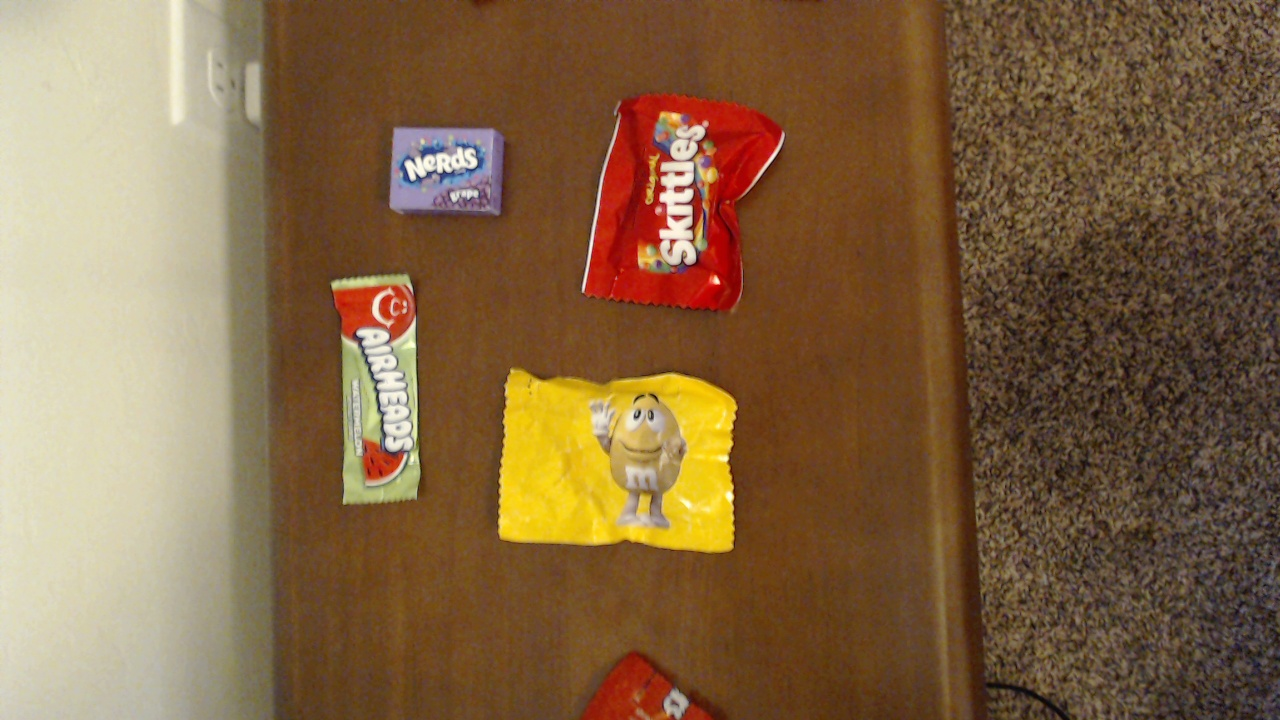MMs_regular: (499, 356, 735, 558)
airheads: (326, 282, 425, 501)
nerds: (375, 120, 512, 230)
skittles: (583, 90, 763, 328)
